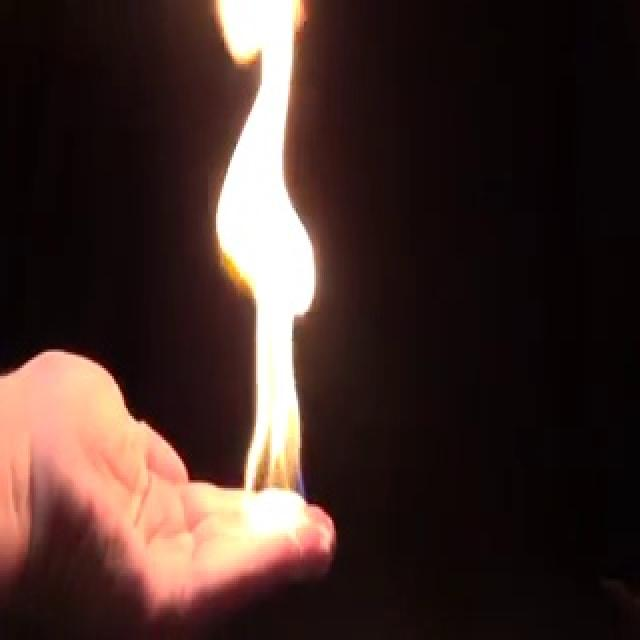fire: (194, 0, 324, 529)
